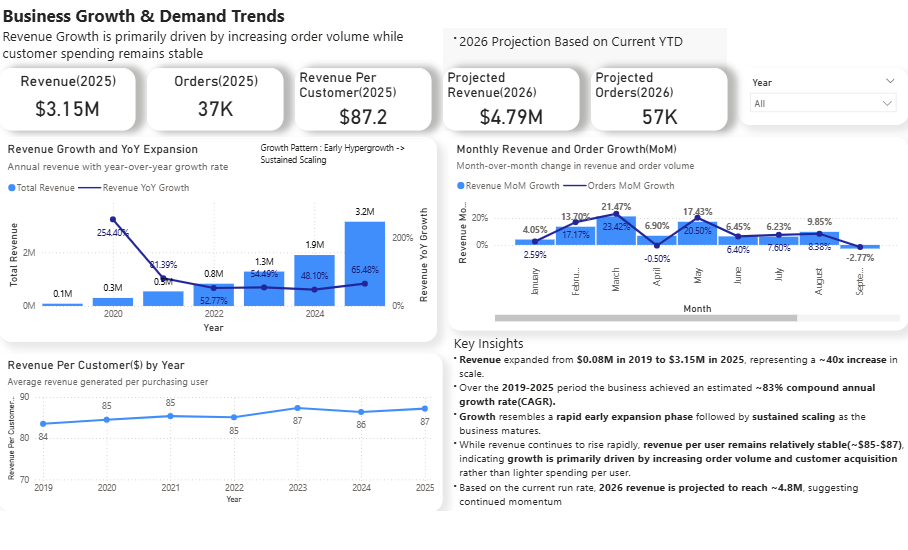

What the dashboard file says about the page in this screenshot:
{"tool":"powerbi","page":{"name":"Business Growth Analysis","canvas":[1280,720],"ordinal":2},"visuals":[{"type":"card","title":"Revenue(2025)","fields":{"Values":["agg_yearly_kpis_enriched.Revenue_2025"]},"box":[0,88,192,96],"z":0,"group":"g1"},{"type":"card","title":"Projected Revenue(2026)","fields":{"Values":["agg_yearly_kpis_enriched.Estimated_2026_Revenue"]},"box":[624,88,192,96],"z":0,"group":"g2"},{"type":"slicer","fields":{"Values":["LocalDateTable_b26bb187-f8a8-44c1-9abe-d0b64b0ea019.Year"]},"box":[1040,96,240,80],"z":0},{"type":"card","title":"Orders(2025)","fields":{"Values":["agg_yearly_kpis_enriched.Orders_2025"]},"box":[208,88,192,96],"z":1000,"group":"g1"},{"type":"card","title":"Projected Orders(2026)","fields":{"Values":["agg_yearly_kpis_enriched.Estimated_2026_Orders"]},"box":[832,88,192,96],"z":1000,"group":"g2"},{"type":"lineClusteredColumnComboChart","title":"Revenue Growth and YoY Expansion","fields":{"Category":["agg_yearly_kpis_enriched. Year_Date.Variation.Date Hierarchy.Year"],"Y":["Sum(agg_yearly_kpis_enriched.total_revenue)"],"Y2":["agg_yearly_kpis_enriched.YoY Revenue %(Display)"]},"box":[0,192,616,288],"z":1000,"group":"g3"},{"type":"textbox","box":[624,48,400,32],"z":2000,"group":"g2"},{"type":"card","title":"Revenue Per Customer(2025)","fields":{"Values":["agg_yearly_kpis_enriched.RevenuePerUser_2025"]},"box":[416,88,192,96],"z":2000,"group":"g1"},{"type":"lineClusteredColumnComboChart","title":"Monthly Revenue and Order Growth(MoM)","fields":{"Y":["Avg(agg_monthly_kpis_enriched.revenue_mom_pct)"],"Y2":["Avg(agg_monthly_kpis_enriched.orders_mom_pct)"],"Category":["agg_monthly_kpis_enriched.month.Variation.Date Hierarchy.Month"]},"box":[632,192,648,272],"z":2000},{"type":"lineChart","fields":{"Y":["agg_yearly_kpis_enriched.Revenue_Per_User"],"Category":["agg_monthly_kpis_enriched.month.Variation.Date Hierarchy.Year"]},"box":[0,496,624,224],"z":3000},{"type":"textbox","box":[0,0,624,88],"z":4000},{"type":"group","id":"g1","title":"Group 1","box":[0,88,608,96],"z":5000},{"type":"group","id":"g2","title":"Group 2","box":[624,48,400,128],"z":6000},{"type":"textbox","box":[624,464,656,256],"z":7000},{"type":"textbox","box":[363.3,192,252.7,46.7],"z":7001,"group":"g3"},{"type":"group","id":"g3","title":"Group 3","box":[0,192,616,288],"z":7002}]}

Visuals, with their boxes on the page's 1280x720 design canvas (x1, y1, x2, y2). These are canvas units, not pixel positions in the 908x550 screenshot, which may show the page scaled, cropped or inside an application window:
"Revenue(2025)" card: x1=0, y1=88, x2=192, y2=184
"Projected Revenue(2026)" card: x1=624, y1=88, x2=816, y2=184
slicer - LocalDateTable_b26bb187-f8a8-44c1-9abe-d0b64b0ea019.Year: x1=1040, y1=96, x2=1280, y2=176
"Orders(2025)" card: x1=208, y1=88, x2=400, y2=184
"Projected Orders(2026)" card: x1=832, y1=88, x2=1024, y2=184
"Revenue Growth and YoY Expansion" lineClusteredColumnComboChart: x1=0, y1=192, x2=616, y2=480
textbox: x1=624, y1=48, x2=1024, y2=80
"Revenue Per Customer(2025)" card: x1=416, y1=88, x2=608, y2=184
"Monthly Revenue and Order Growth(MoM)" lineClusteredColumnComboChart: x1=632, y1=192, x2=1280, y2=464
lineChart - agg_yearly_kpis_enriched.Revenue_Per_User x agg_monthly_kpis_enriched.month.Variation.Date Hierarchy.Year: x1=0, y1=496, x2=624, y2=720
textbox: x1=0, y1=0, x2=624, y2=88
"Group 1" group: x1=0, y1=88, x2=608, y2=184
"Group 2" group: x1=624, y1=48, x2=1024, y2=176
textbox: x1=624, y1=464, x2=1280, y2=720
textbox: x1=363, y1=192, x2=616, y2=239
"Group 3" group: x1=0, y1=192, x2=616, y2=480
